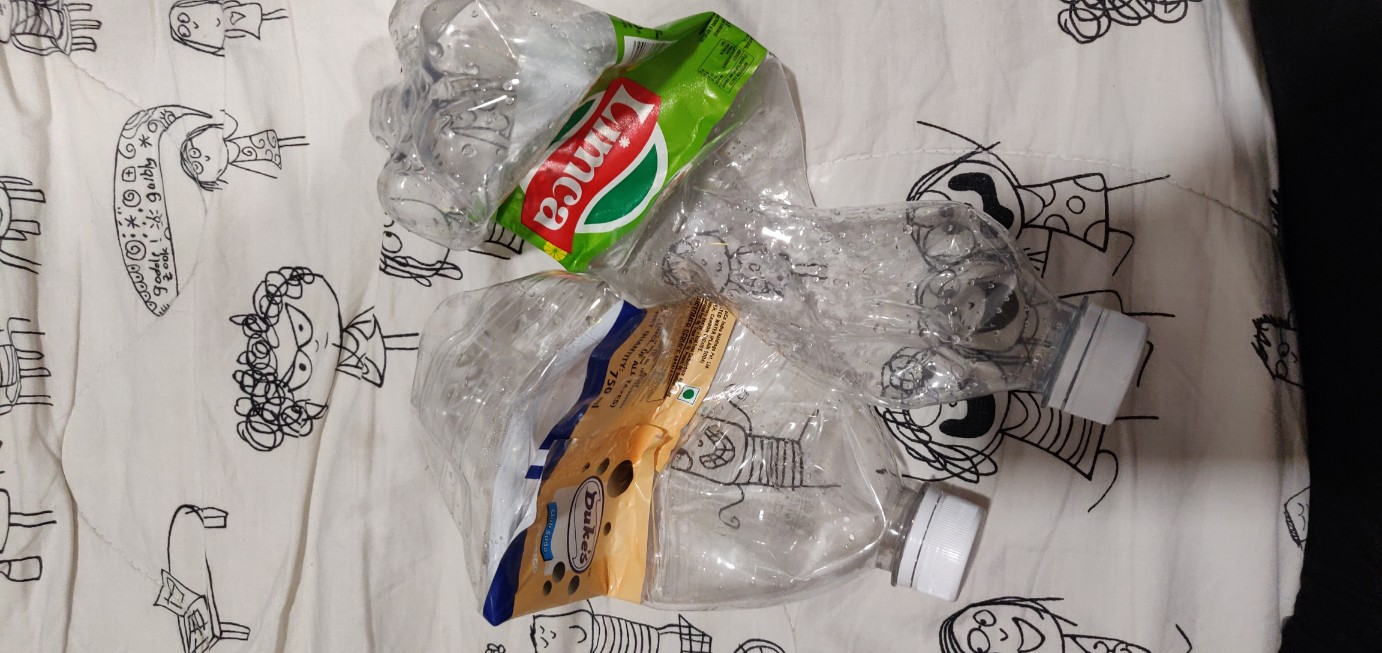Electronics: (348, 1, 1169, 481), (395, 254, 1050, 653)
